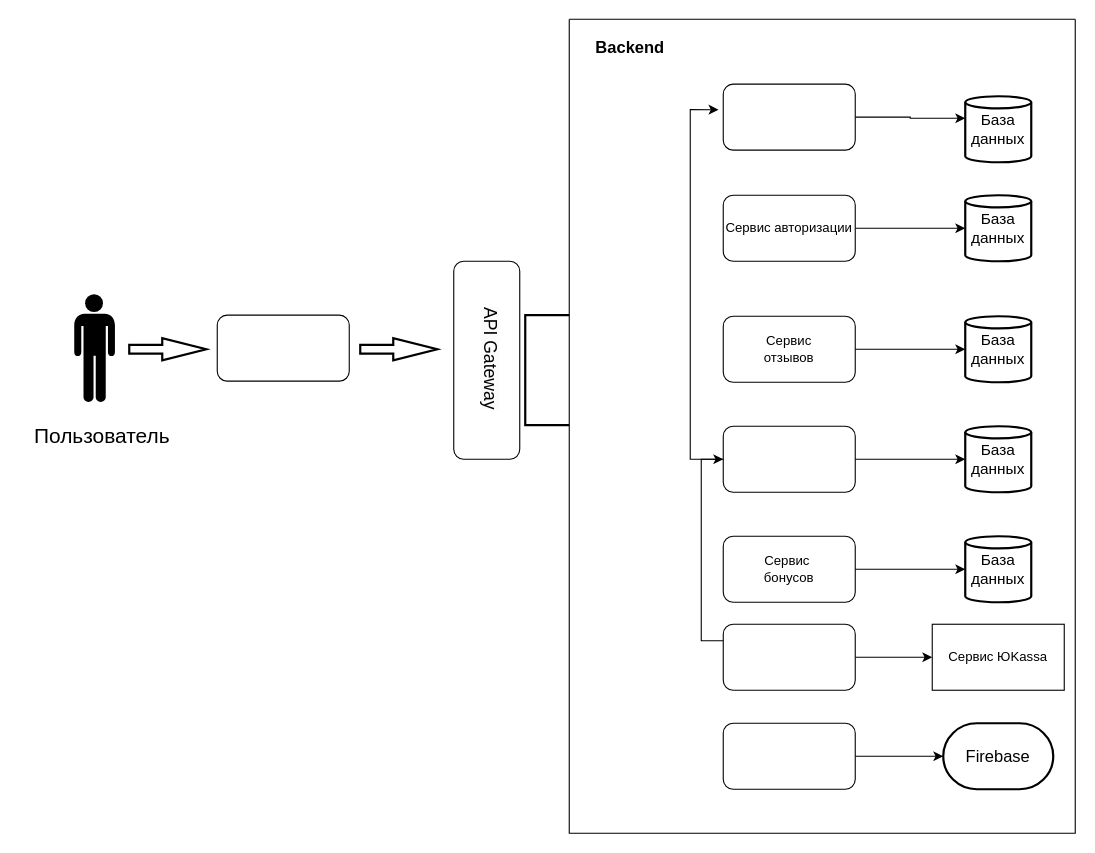
The diagram is 1095 pixels wide and 853 high, and some of its shapes have lost their labels. The centre of each missing label's shape, as x and y in pixels:
"Приложение" belongs at point (282, 347).
"Сервис заказов" belongs at point (788, 458).
"Сервис оплаты" belongs at point (788, 656).
"Сервис пуш-уведомлений" belongs at point (788, 755).
"Сервис товаров" belongs at point (788, 116).
